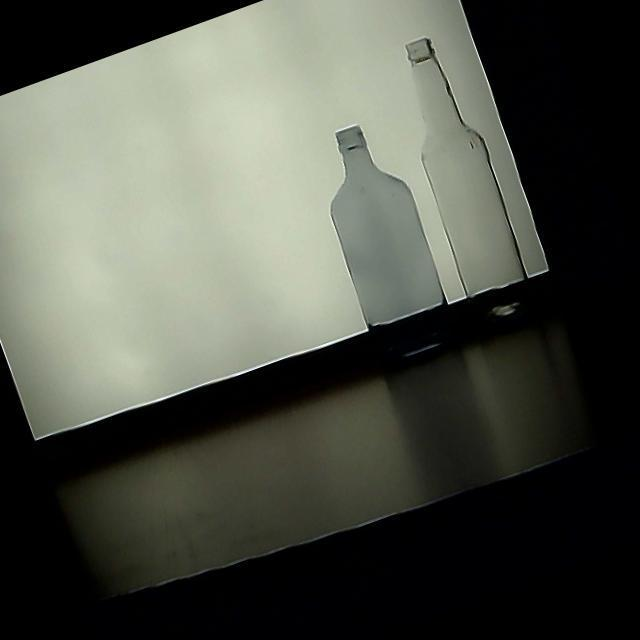Glass: (405, 37, 535, 336), (329, 124, 459, 375)
